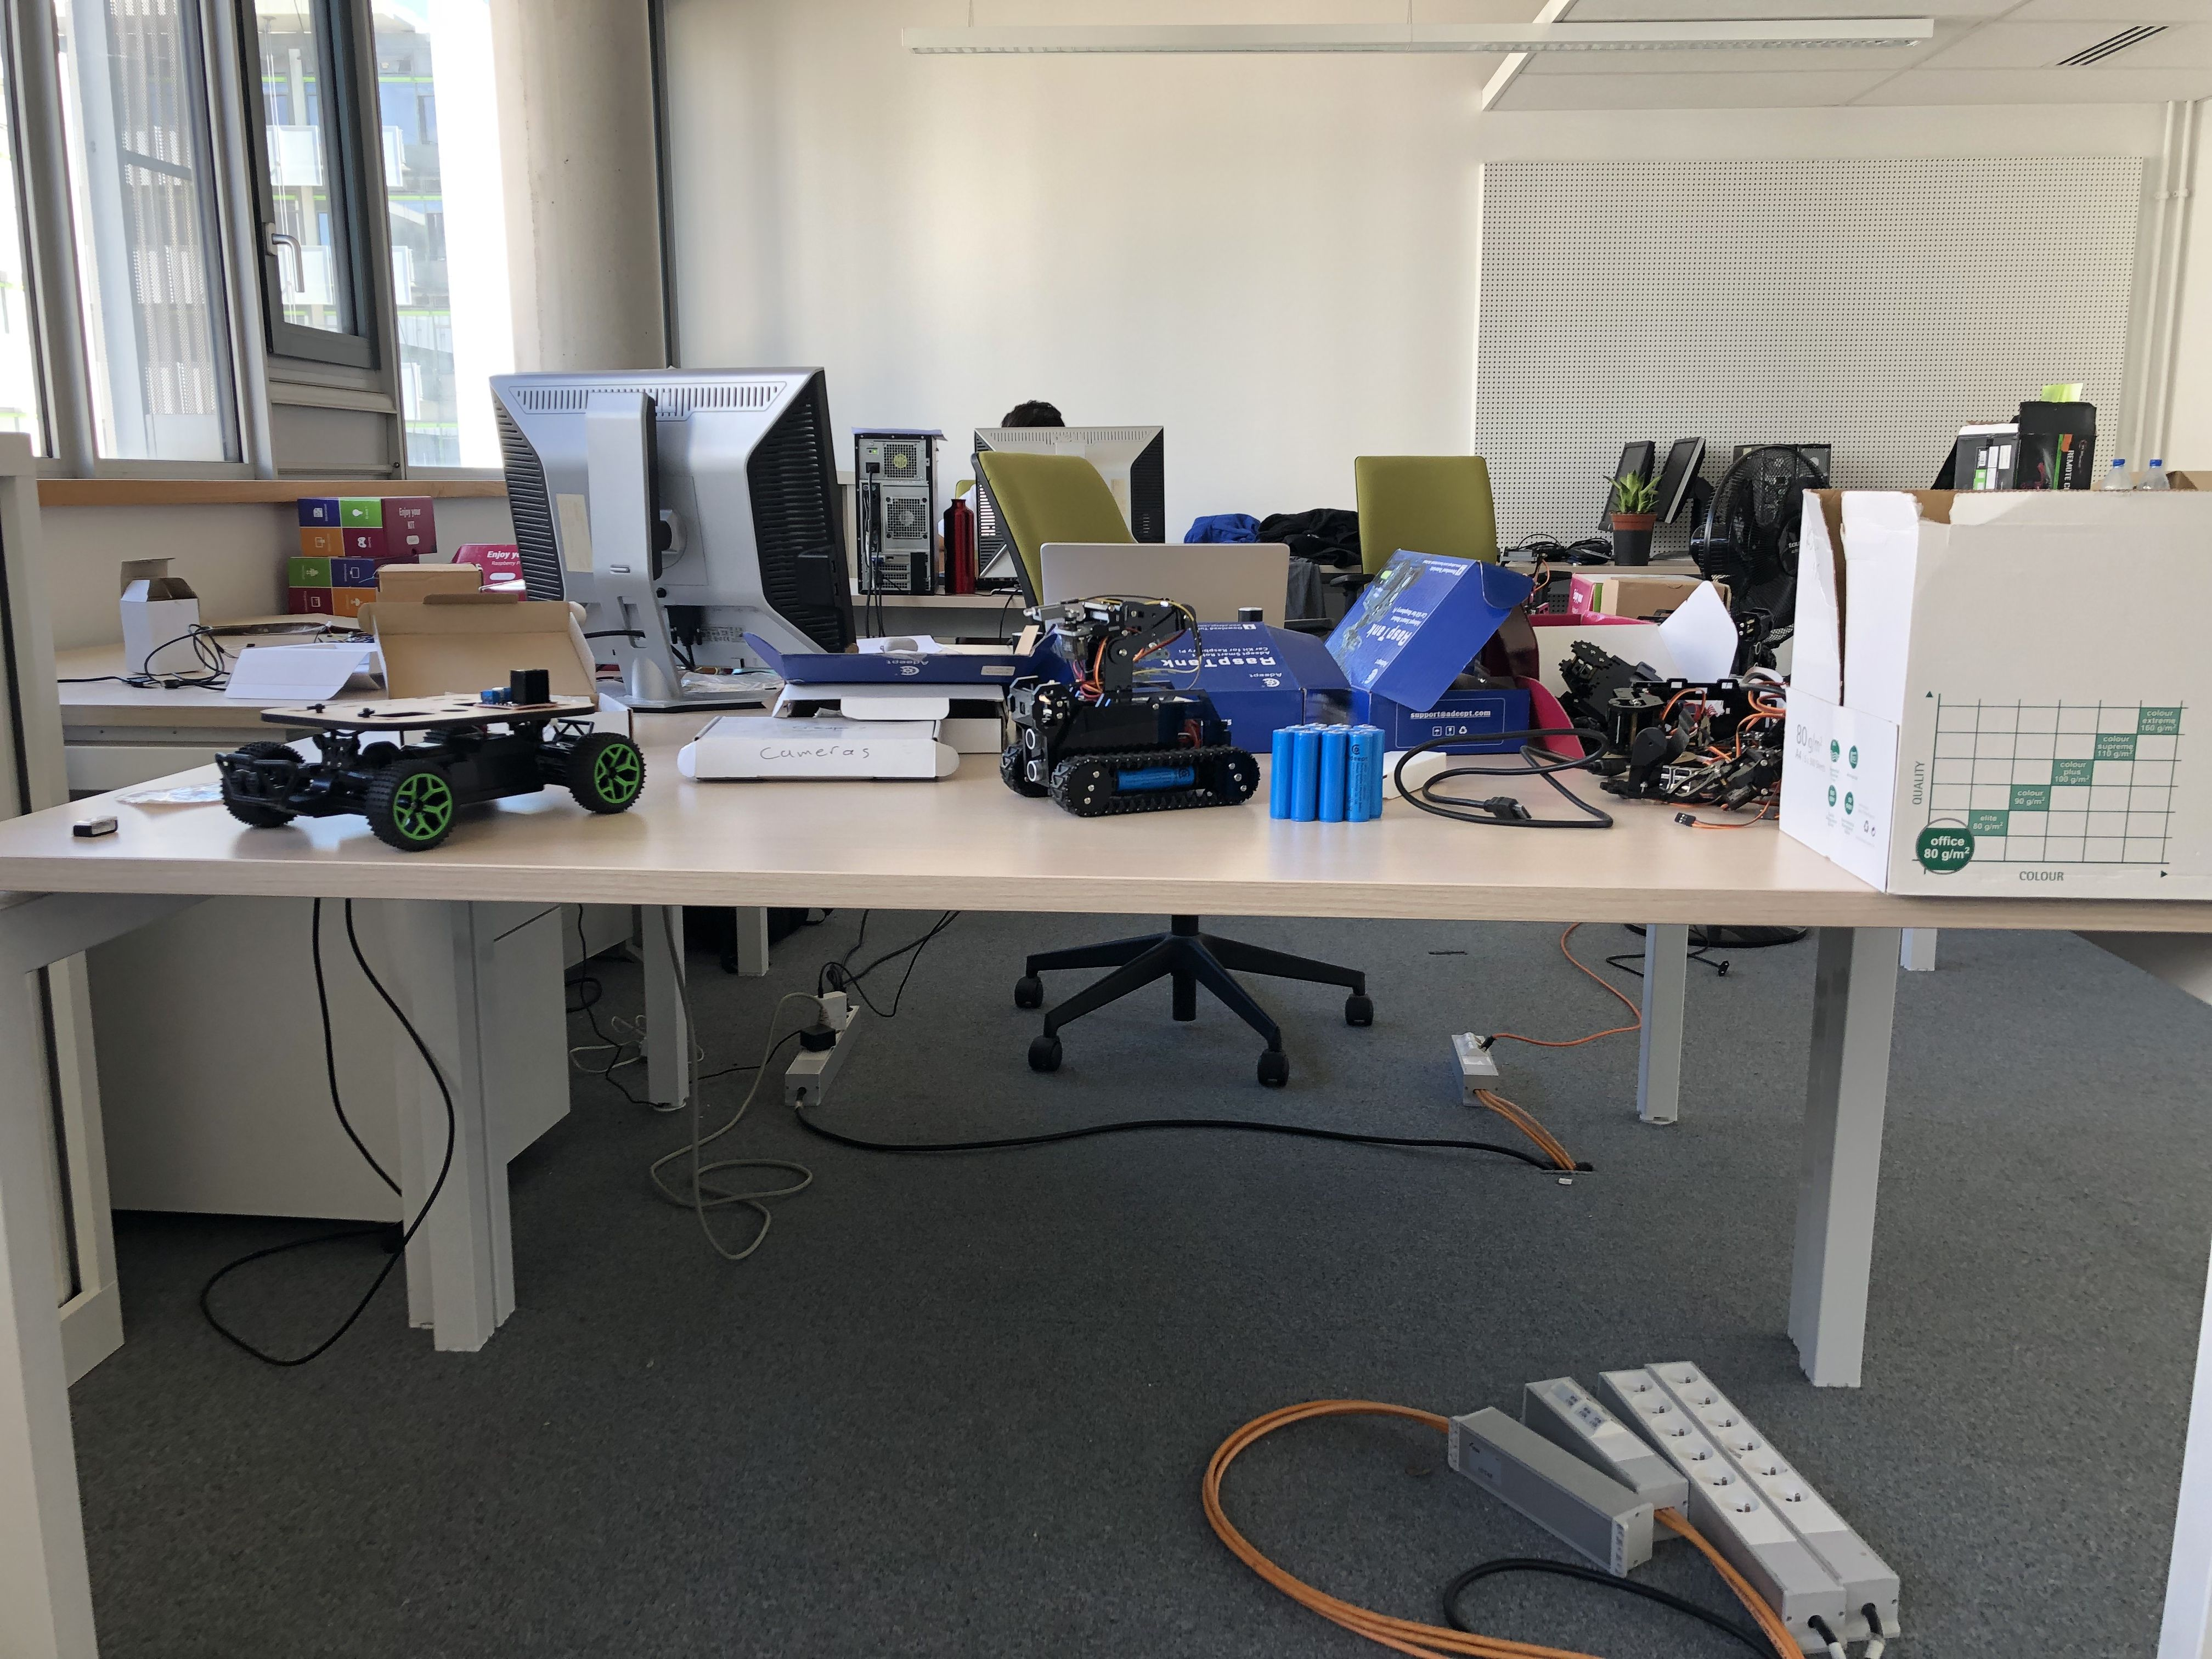rasptank: (995, 591, 1270, 819)
